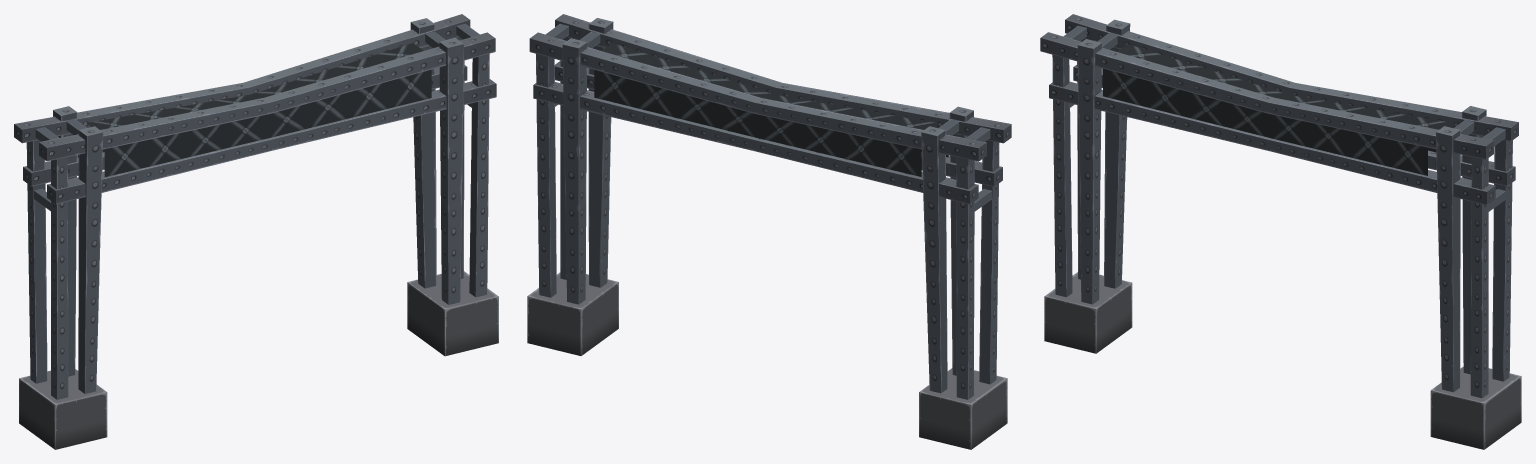
Rendered from Street_el1.fbx.
3 renders of one model, left to right at view 1: azimuth 30°, elevation 25°; view 2: azimuth 150°, elevation 25°; view 3: azimuth 330°, elevation 25°, orthographic.
Parts seen in each view (by area): view 1: polySurface71; view 2: polySurface71; view 3: polySurface71.
Boxes of the visible parts, x1,y1,x2,y2 form: polySurface71: [14, 14, 498, 449]; polySurface71: [527, 14, 1011, 449]; polySurface71: [1040, 14, 1521, 449].
Bounding box in the file's own units: 14.58 × 9.51 × 2.12.
